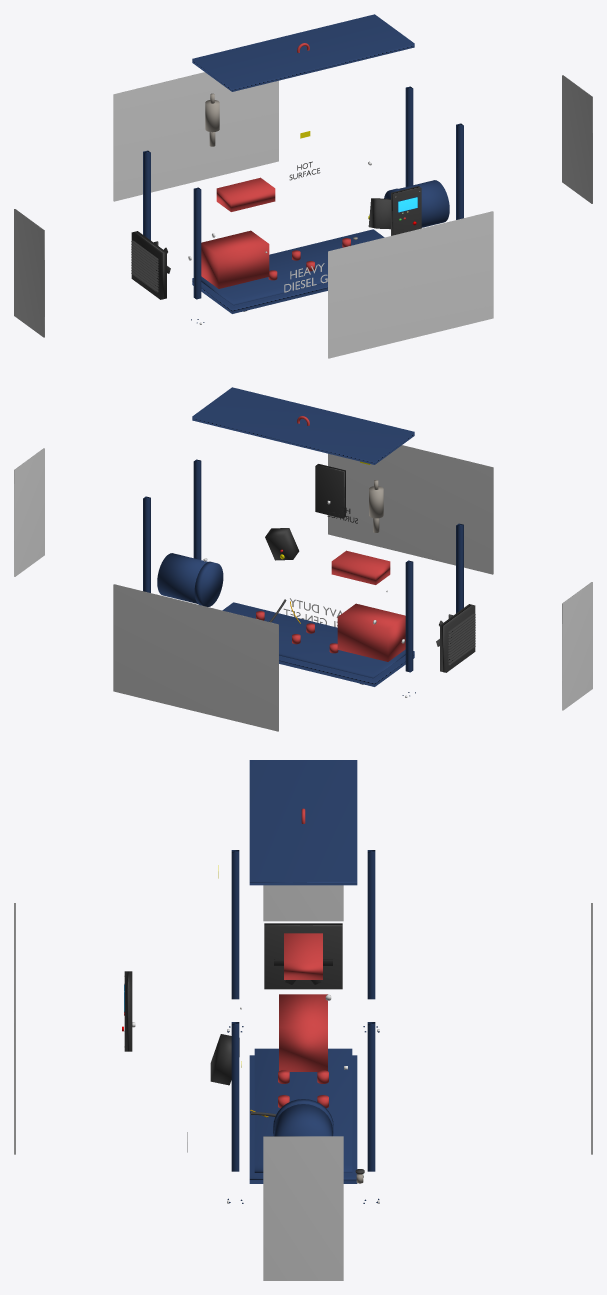
Rendered from genset.glb.
3 views of the same model, one above another, from view 1: azimuth 30°, elevation 25°; view 2: azimuth 150°, elevation 25°; view 3: azimuth 270°, elevation 25° (orthographic). The views are drawn at different scales.
Visible parts, largest first — view 1: Addon_SidePanel_Front, Addon_SidePanel_Back, Addon_Canopy_Roof, Base_FuelTank, Addon_SidePanel_Left, Addon_SidePanel_Right, Engine_Block, Cylinder_Head, Alternator, Frame_Bottom, Addon_ControlPanel_MainCasing, Addon_Pillar_BL (+6 smaller); view 2: Addon_SidePanel_Back, Addon_SidePanel_Front, Addon_Canopy_Roof, Base_FuelTank, Addon_SidePanel_Left, Addon_SidePanel_Right, Engine_Block, Alternator, Addon_ControlPanel_MainCasing, Cylinder_Head, Frame_Bottom, Addon_Pillar_FL (+7 smaller); view 3: Addon_Canopy_Roof, Addon_SidePanel_Right, Base_FuelTank, Engine_Block, Radiator_Body, Addon_SidePanel_Left, Cylinder_Head, Frame_Bottom, Alternator, Addon_Pillar_BR, Addon_Pillar_FR, Addon_Pillar_BL (+3 smaller).
Boxes of the visible parts, x1,y1,x2,y2 form: Addon_SidePanel_Front: (328, 211, 493, 358); Addon_SidePanel_Back: (113, 72, 278, 201); Addon_Canopy_Roof: (192, 14, 414, 91); Base_FuelTank: (201, 229, 384, 305); Addon_SidePanel_Left: (14, 209, 44, 337); Addon_SidePanel_Right: (562, 75, 592, 203); Engine_Block: (201, 230, 269, 288); Cylinder_Head: (216, 177, 275, 211); Alternator: (384, 180, 449, 227); Frame_Bottom: (192, 278, 327, 313); Addon_ControlPanel_MainCasing: (391, 186, 421, 235); Addon_Pillar_BL: (193, 187, 201, 299); Addon_SidePanel_Back: (113, 584, 278, 731); Addon_SidePanel_Front: (328, 445, 493, 574); Addon_Canopy_Roof: (192, 387, 414, 464); Base_FuelTank: (222, 602, 405, 678); Addon_SidePanel_Left: (562, 582, 592, 710); Addon_SidePanel_Right: (14, 448, 44, 576); Engine_Block: (337, 603, 405, 661); Alternator: (157, 553, 222, 606); Addon_ControlPanel_MainCasing: (315, 464, 345, 518); Cylinder_Head: (331, 550, 390, 584); Frame_Bottom: (279, 651, 414, 686); Addon_Pillar_FL: (405, 560, 413, 672); Addon_Canopy_Roof: (249, 760, 357, 885); Addon_SidePanel_Right: (263, 1136, 343, 1280); Base_FuelTank: (254, 1048, 352, 1172); Engine_Block: (279, 994, 327, 1071); Radiator_Body: (264, 923, 342, 989); Addon_SidePanel_Left: (263, 885, 343, 921); Cylinder_Head: (284, 933, 322, 979); Frame_Bottom: (249, 1055, 357, 1183); Alternator: (274, 1104, 332, 1136); Addon_Pillar_BR: (231, 1022, 239, 1171); Addon_Pillar_FR: (367, 1022, 375, 1171); Addon_Pillar_BL: (231, 850, 239, 999).
Size of what is drawn, in the model's own units: 8.72 by 3.81 by 5.92.
